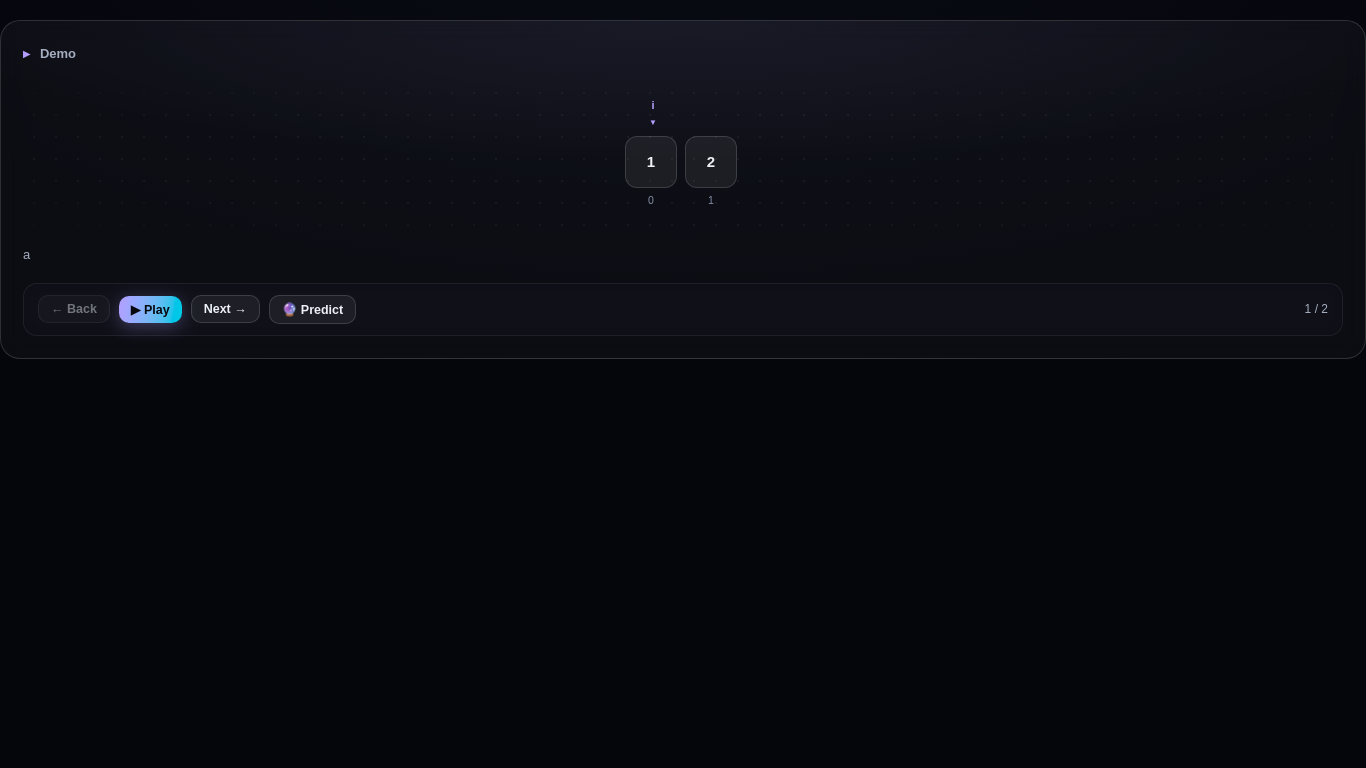
Test case: (8) feedback names the axis a wrong pick got wrong › reports a cells-only difference
Click the button "🔮 Predict" at (313, 309), box x1=269 y1=295 x2=356 y2=324
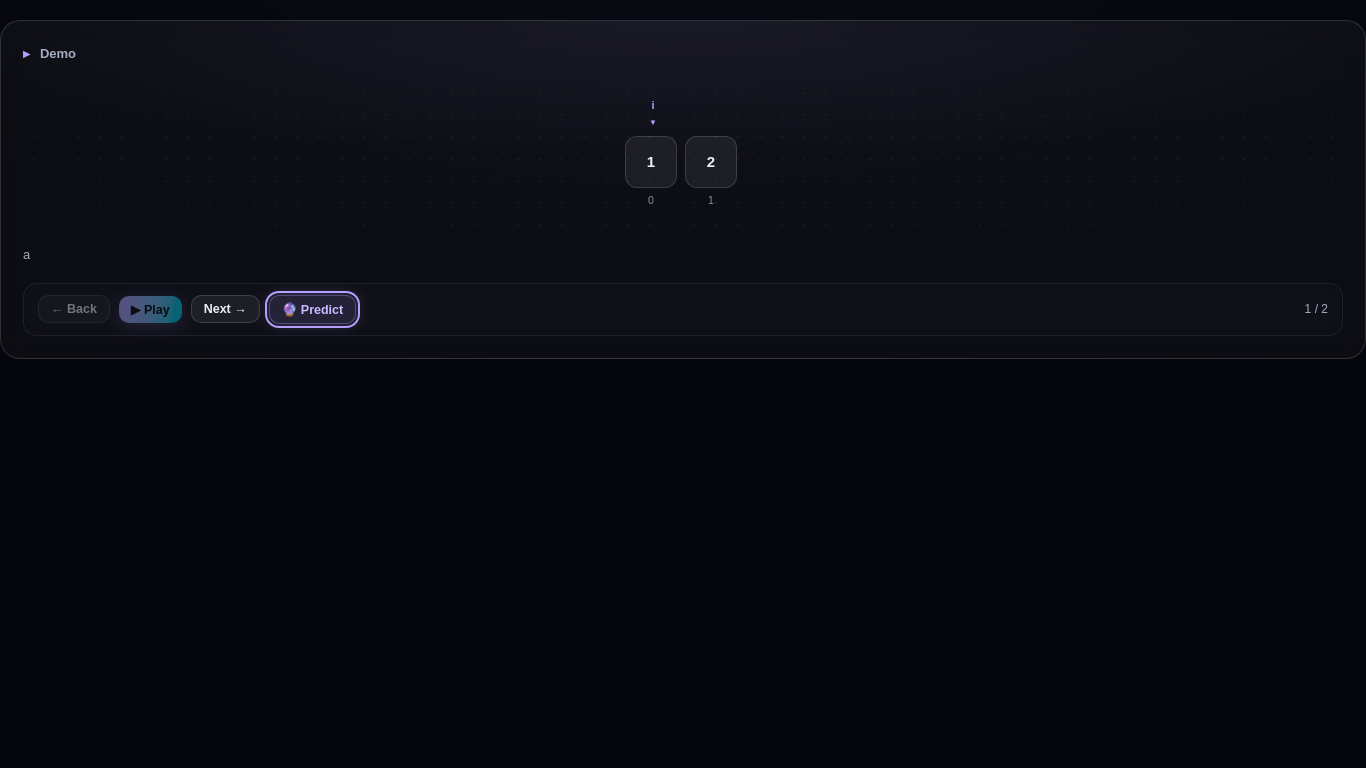
Click the button "Next →" at (225, 309), box x1=191 y1=295 x2=260 y2=323
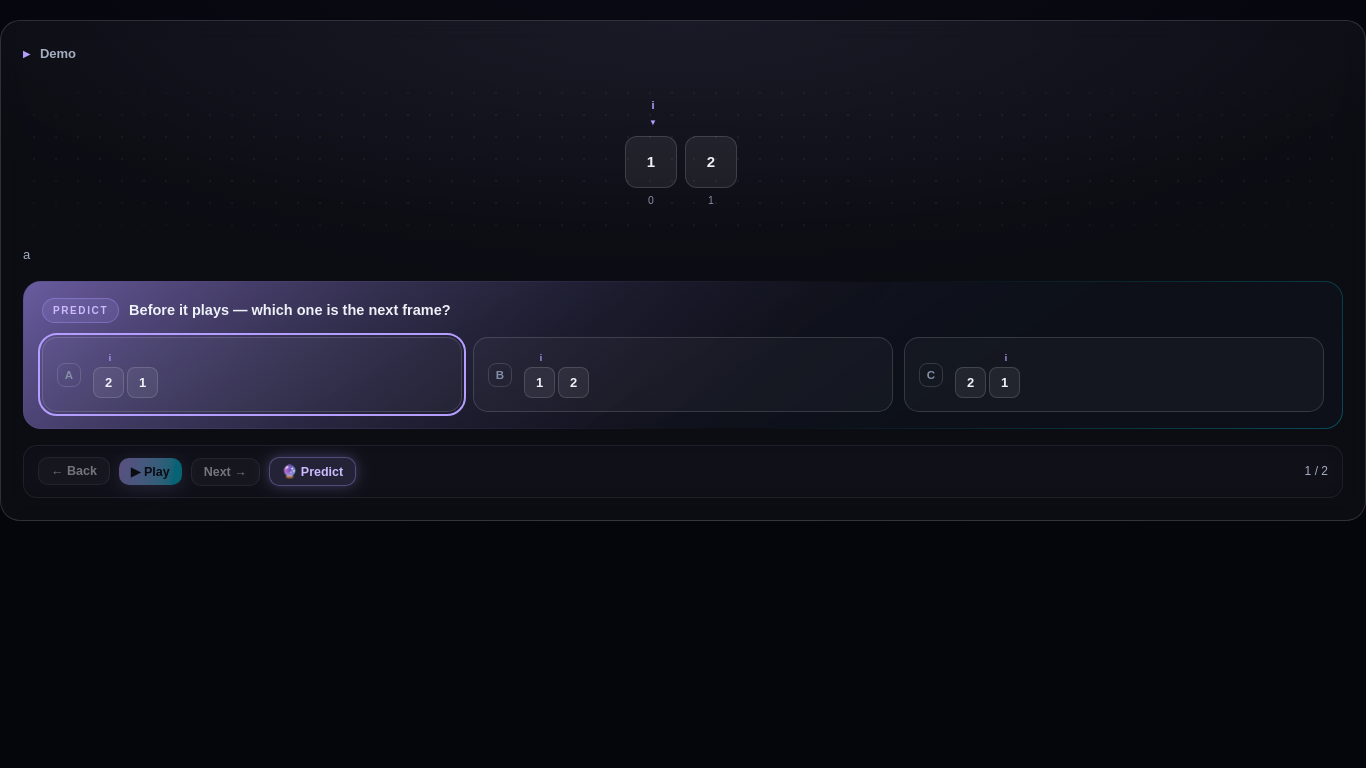
Click the button "B i 1 2" at (540, 383), box x1=473 y1=337 x2=893 y2=412
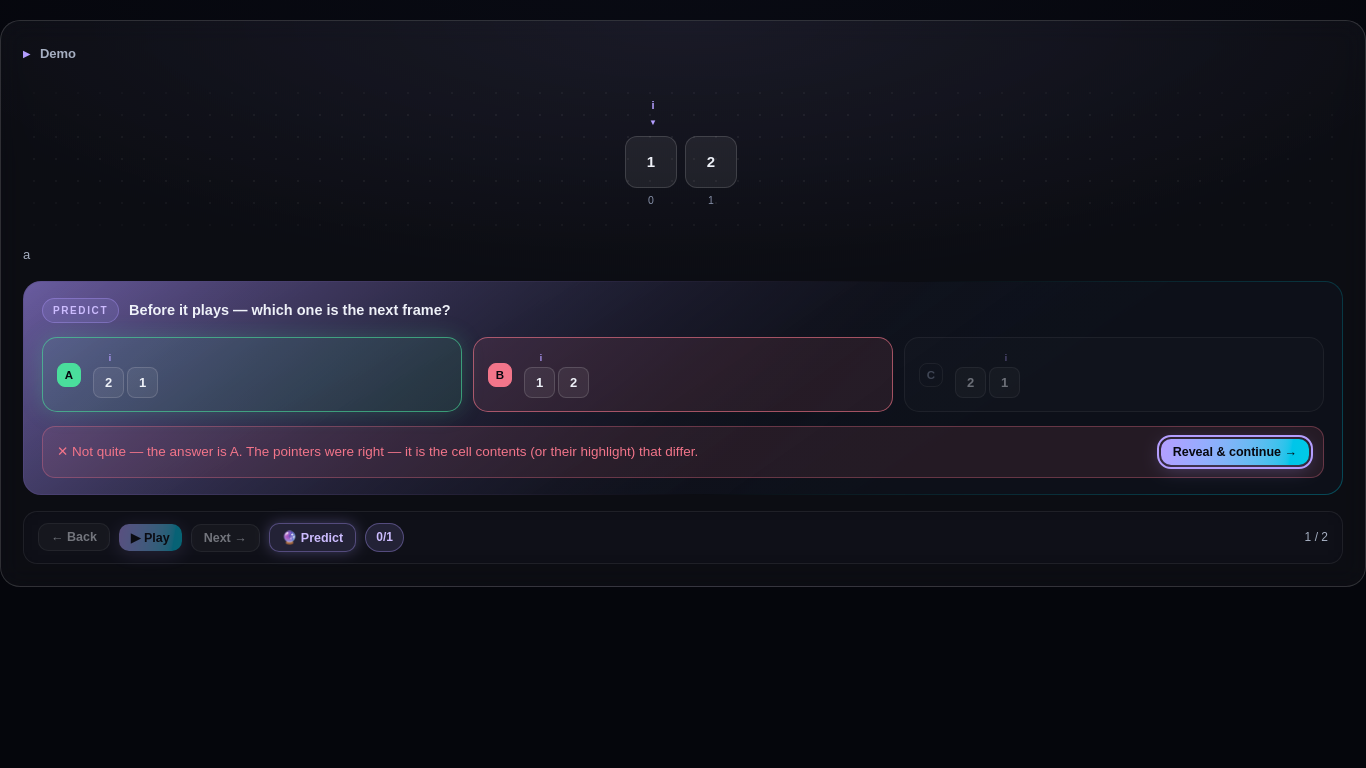
Expected: the text "it is the cell contents" is shown, x1=246 y1=444 x2=698 y2=460
